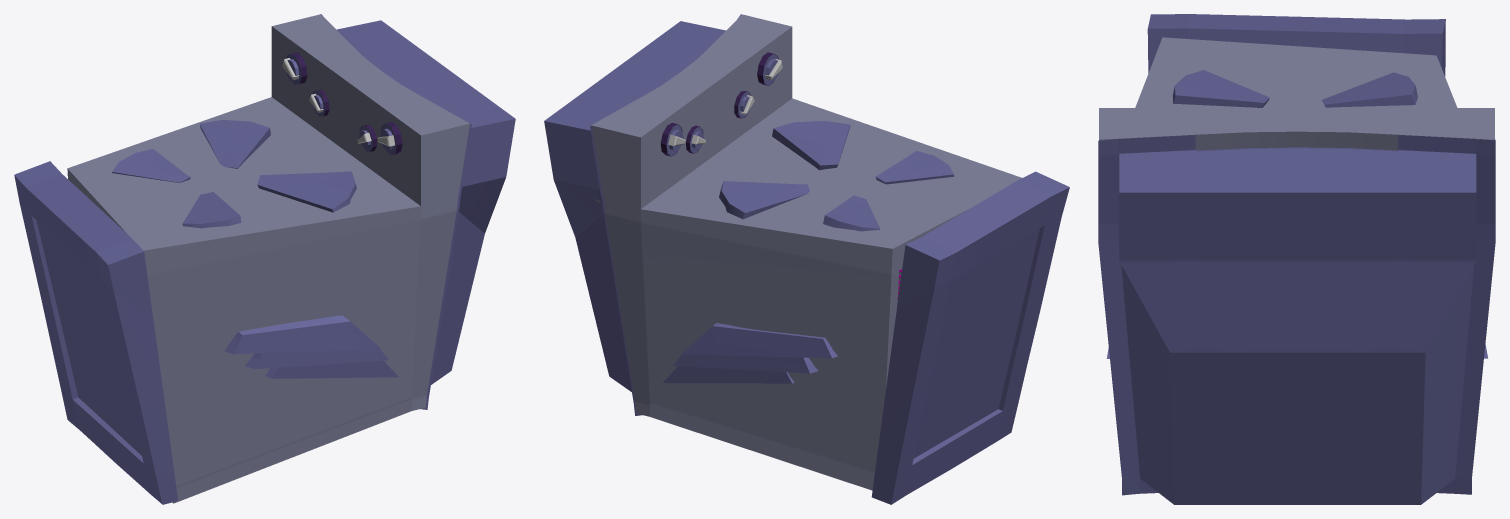
Rendered from Oven Trap.fbx.
The picture shows the model from 3 angles, left to right: view 1: azimuth 30°, elevation 25°; view 2: azimuth 150°, elevation 25°; view 3: azimuth 270°, elevation 25°; orthographic projection. The views are drawn at different scales.
Visible parts, largest first — view 1: oven_base, mouth, oven_base1, element_4, element_1, element_2, element_3, eye_4, eye_1; view 2: oven_base, mouth, oven_base1, element_4, element_1, element_3, element_2, eye_1, eye_4; view 3: oven_base1, oven_base, mouth, element_3, element_2.
Boxes of the visible parts, bbox=[...] form: oven_base: bbox=[67, 14, 469, 503]; mouth: bbox=[14, 161, 178, 504]; oven_base1: bbox=[320, 14, 515, 409]; element_4: bbox=[257, 171, 356, 212]; element_1: bbox=[200, 120, 270, 168]; element_2: bbox=[112, 149, 190, 182]; element_3: bbox=[182, 192, 241, 228]; eye_4: bbox=[282, 52, 307, 85]; eye_1: bbox=[377, 122, 402, 154]; oven_base: bbox=[591, 14, 1021, 490]; mouth: bbox=[871, 171, 1069, 504]; oven_base1: bbox=[544, 14, 741, 415]; element_4: bbox=[772, 121, 850, 170]; element_1: bbox=[719, 181, 809, 219]; element_3: bbox=[875, 151, 954, 184]; element_2: bbox=[823, 195, 879, 231]; eye_1: bbox=[757, 52, 782, 85]; eye_4: bbox=[660, 122, 685, 156]; oven_base1: bbox=[1098, 135, 1495, 504]; oven_base: bbox=[1099, 37, 1494, 358]; mouth: bbox=[1147, 14, 1445, 76]; element_3: bbox=[1172, 70, 1269, 107]; element_2: bbox=[1322, 72, 1417, 107].
Bounding box in the file's own units: 1.53 × 1.22 × 1.
